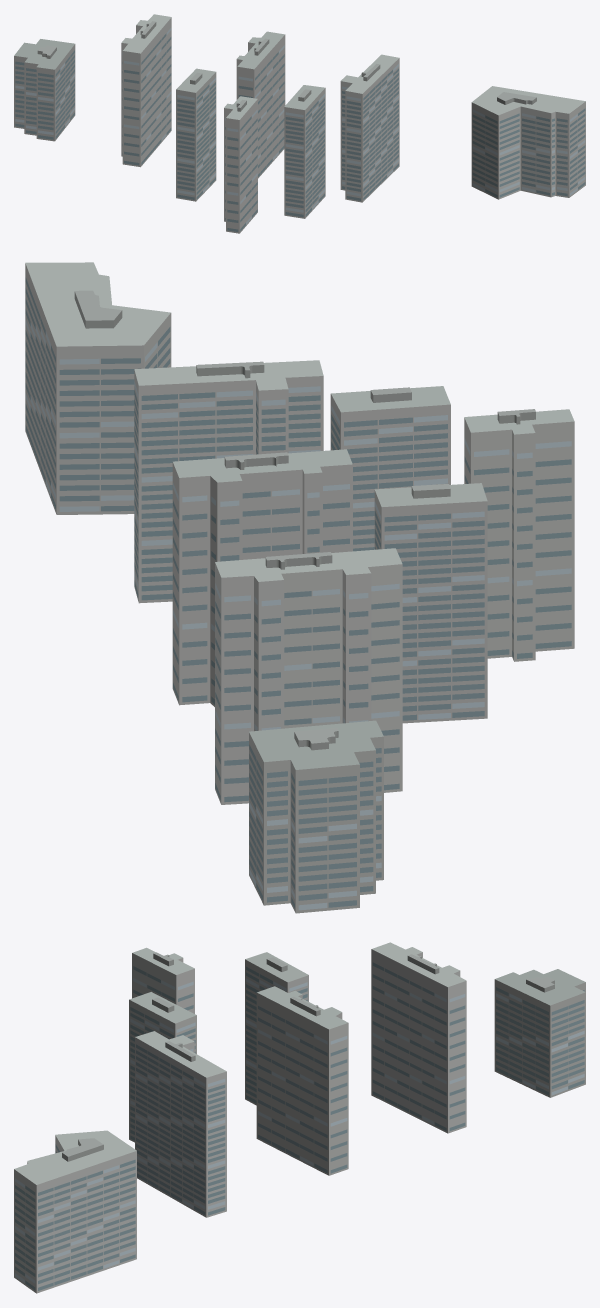
File: apt-a15288807.glb
3 views of the same model, one above another, from view 1: azimuth 30°, elevation 25°; view 2: azimuth 150°, elevation 25°; view 3: azimuth 270°, elevation 25° (orthographic). The views are drawn at different scales.
Parts seen in each view (by area): view 1: apt-a15288807; view 2: apt-a15288807; view 3: apt-a15288807.
Part boxes in pixels (<box>): apt-a15288807: <box>14,14,585,233</box>; apt-a15288807: <box>25,262,574,913</box>; apt-a15288807: <box>14,942,585,1293</box>.
Size of the model in its own units: 237 by 72 by 246.
